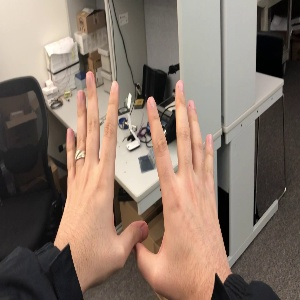hand: (135, 80, 229, 287), (59, 72, 149, 270)
